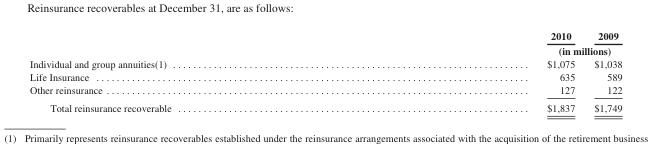table: (29, 29, 621, 112)
table column: (29, 29, 358, 112), (358, 29, 583, 112), (583, 29, 621, 112)
table column header: (29, 29, 621, 57)
table row: (29, 82, 621, 98), (29, 29, 621, 43), (29, 43, 621, 57), (29, 98, 621, 112), (29, 69, 621, 82), (29, 57, 621, 69)
table spanning cell: (358, 43, 621, 57)
